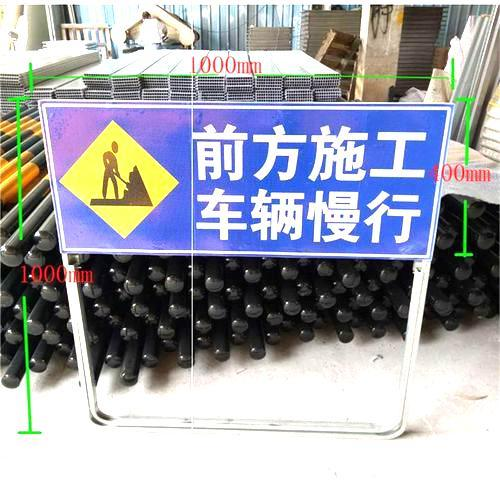sign: (39, 98, 436, 263)
